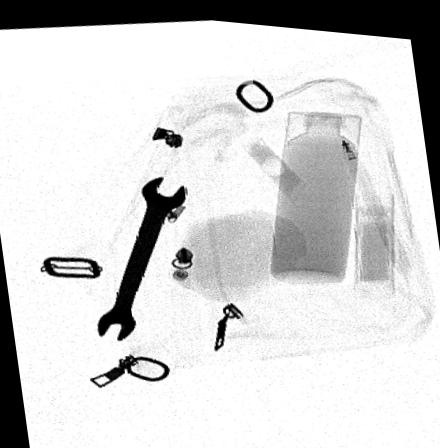Wrench: (94, 171, 186, 338)
